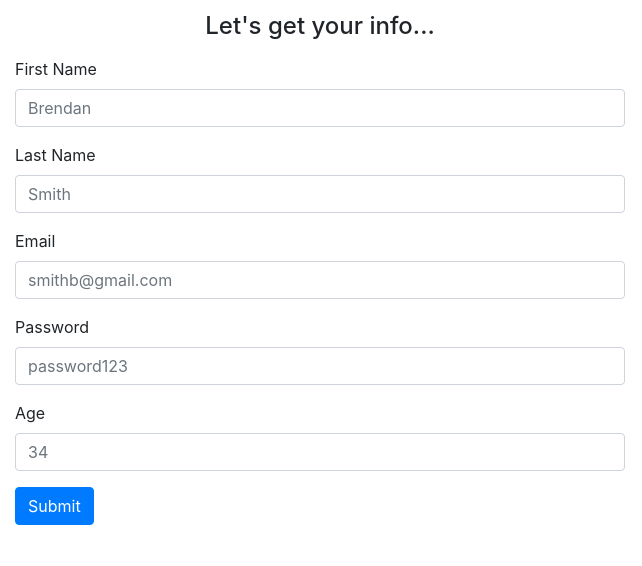
Test: password is invalid - first condition
Type "BRIAN" into the field labelled "First Name" at coordinates (320, 108), box top-left (15, 89), bottom-right (625, 127)
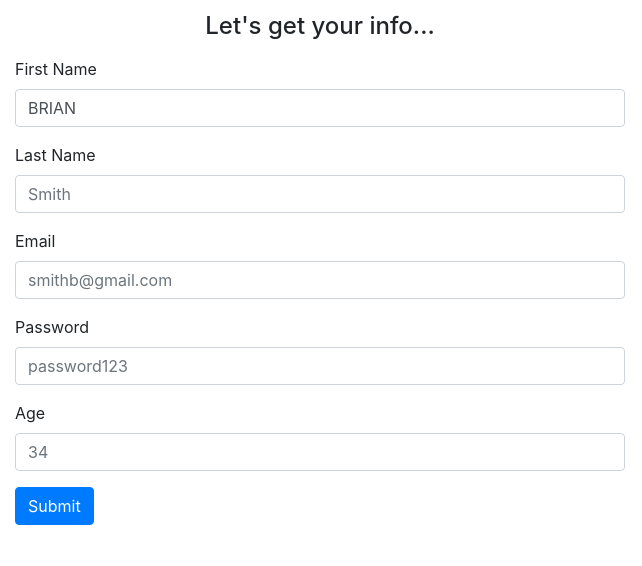
Type "THALHAMER" into the field labelled "Last Name" at coordinates (320, 194), box top-left (15, 175), bottom-right (625, 213)
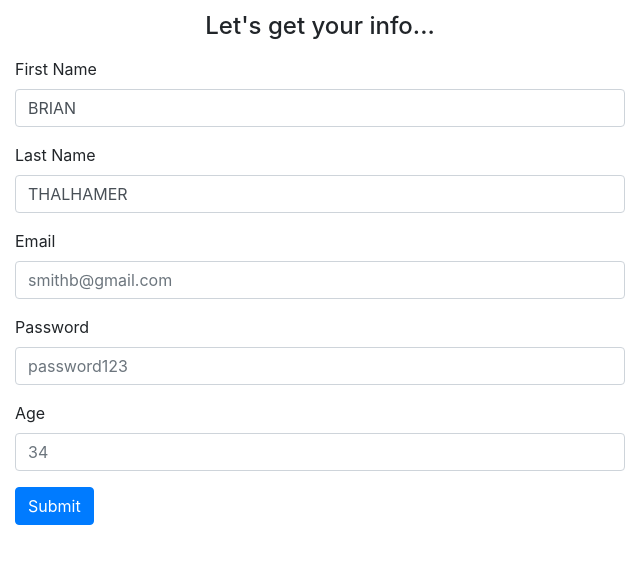
Type "thalhamerb@gmail.com" into the field labelled "Email" at coordinates (320, 280), box top-left (15, 261), bottom-right (625, 299)
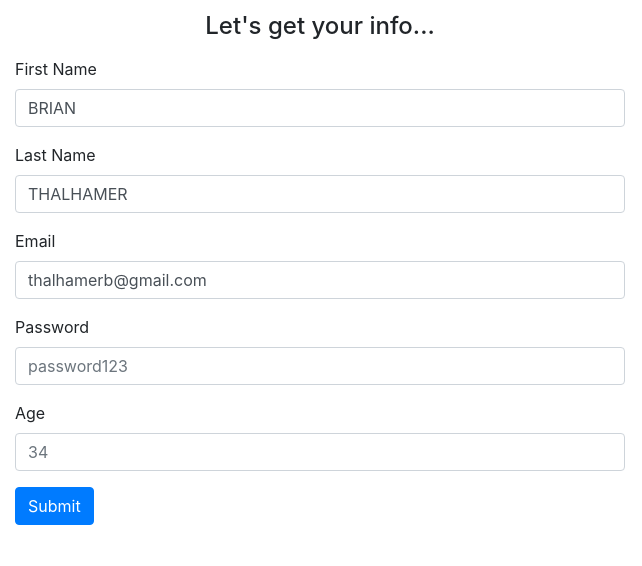
Type "sssssssss" into the field labelled "Password" at coordinates (320, 366), box top-left (15, 347), bottom-right (625, 385)
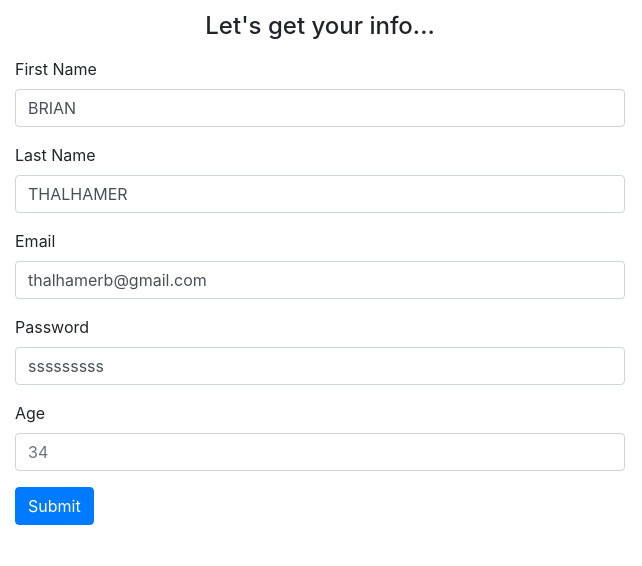
Click the button "Submit" at coordinates (54, 506), box top-left (15, 487), bottom-right (94, 525)
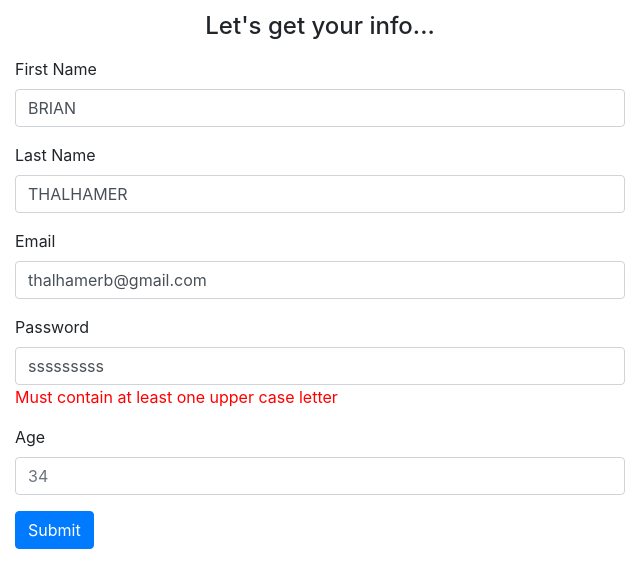
Check: the text "Must contain at least one upper case letter" is shown, box top-left (15, 387), bottom-right (338, 407)
